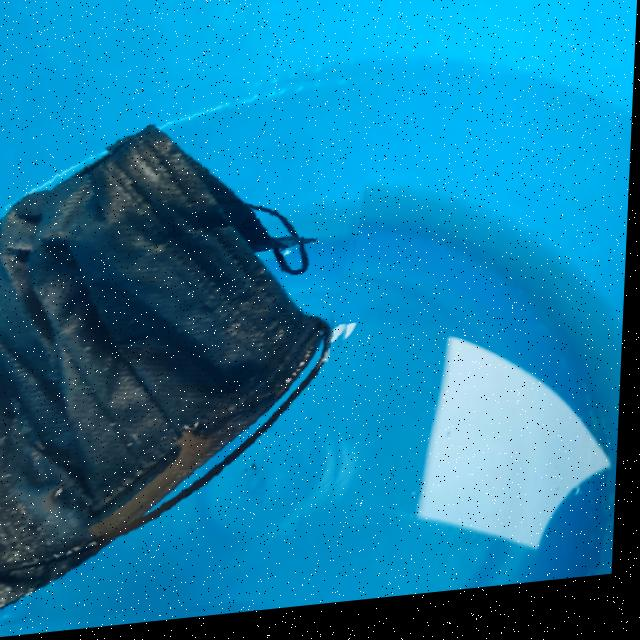mask: (0, 58, 370, 629)
